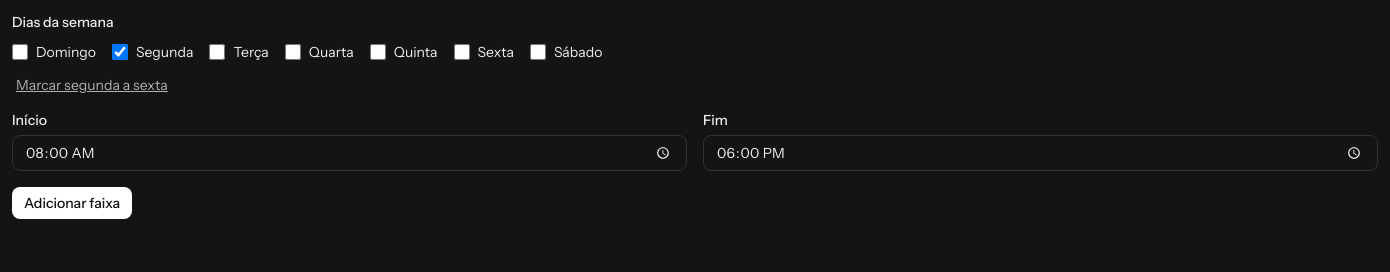
Test: faixa com erro mantém o que foi digitado › nova faixa mantém início e fim depois de um erro de sobreposição
The image size is (1390, 272).
Replace the text in the time field labelled "Início" with "12:00": coordinates (350, 153) [12,135,687,171]
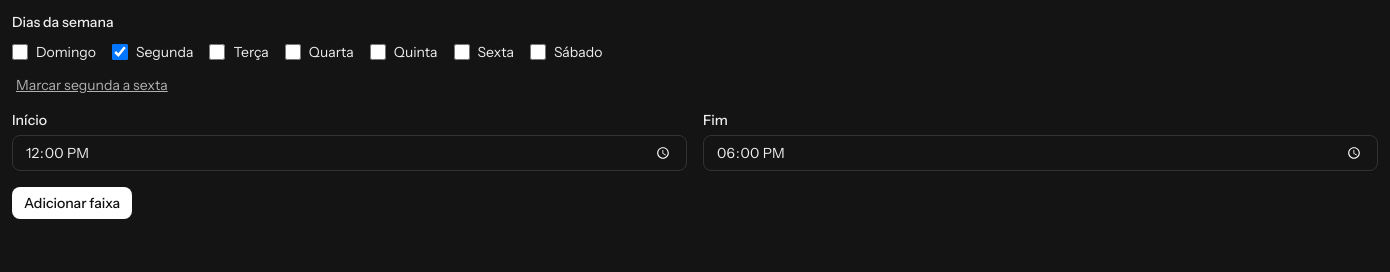
Replace the text in the time field labelled "Fim" with "13:00": coordinates (1040, 153) [703,135,1378,171]
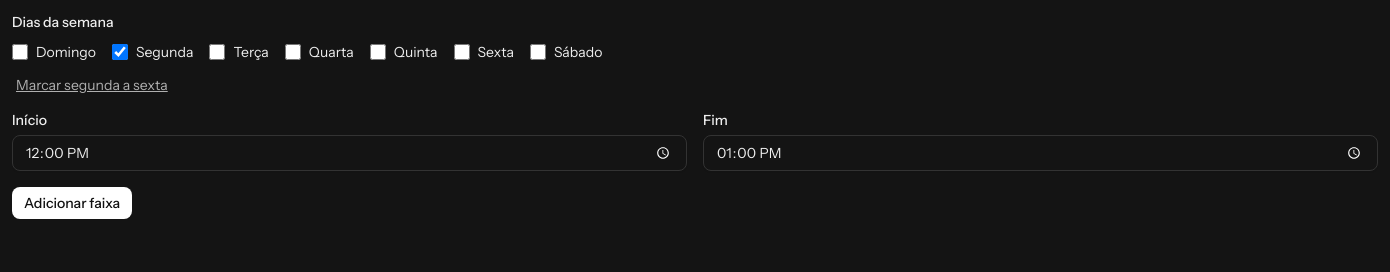
Click the button "Adicionar faixa": coordinates (72, 203) [12,187,132,219]
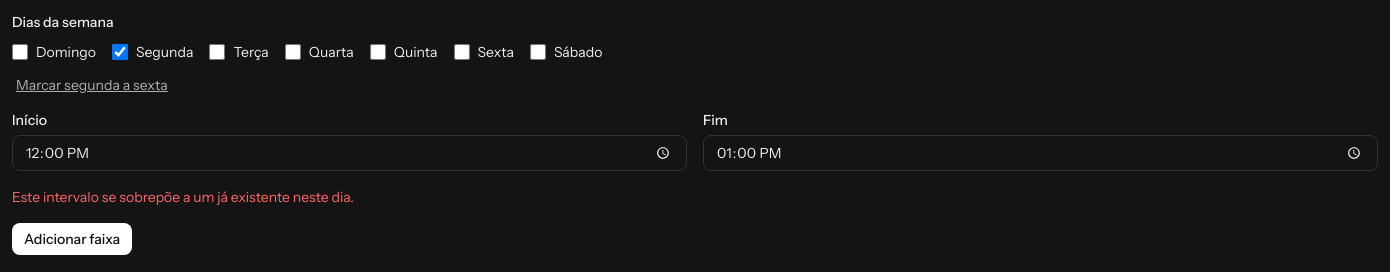
Now the text "Este intervalo se sobrepõe a um já existente neste dia." is shown, box [12,188,354,206]
